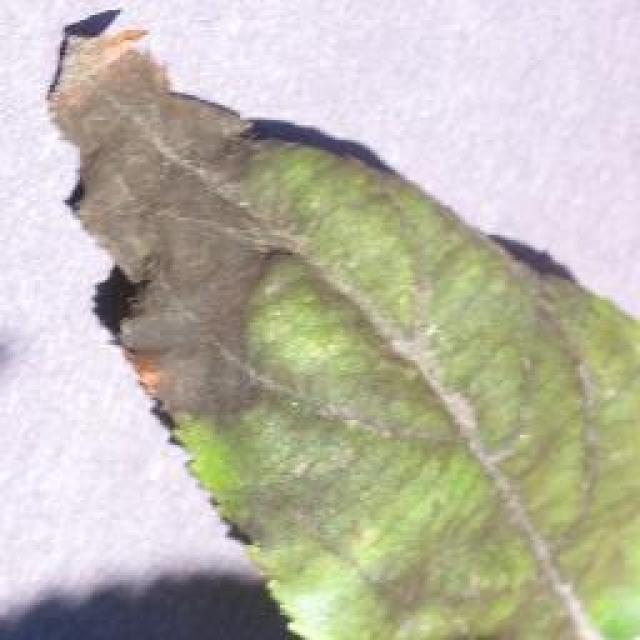apple scab disease: (42, 5, 638, 637)
